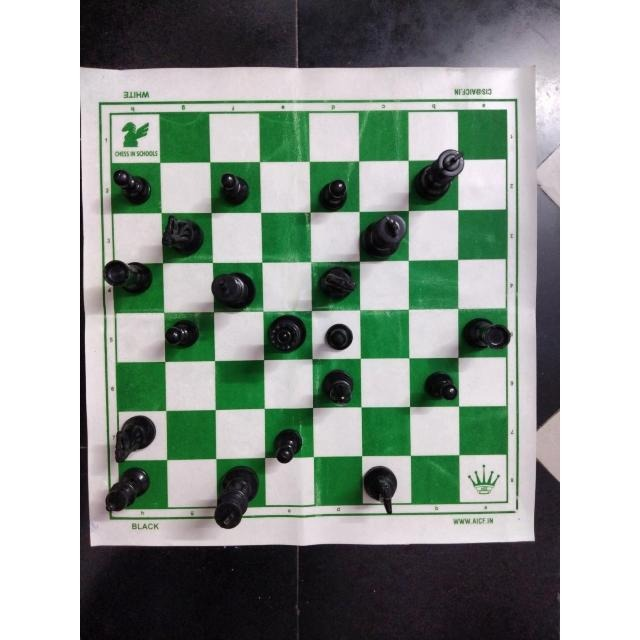black-bishop: (101, 463, 153, 512), (319, 367, 361, 407)
black-king: (210, 460, 262, 531), (411, 146, 467, 205), (360, 210, 410, 262), (208, 267, 260, 313)
black-knight: (112, 411, 162, 463), (158, 211, 206, 259), (360, 464, 404, 516), (315, 267, 359, 307)
black-pawn: (110, 167, 155, 207), (424, 367, 463, 407), (270, 425, 306, 465), (314, 177, 350, 215), (164, 317, 204, 351), (219, 169, 252, 209), (320, 321, 356, 354)
black-queen: (263, 311, 311, 359)
black-rook: (101, 256, 155, 300), (459, 313, 515, 355)
